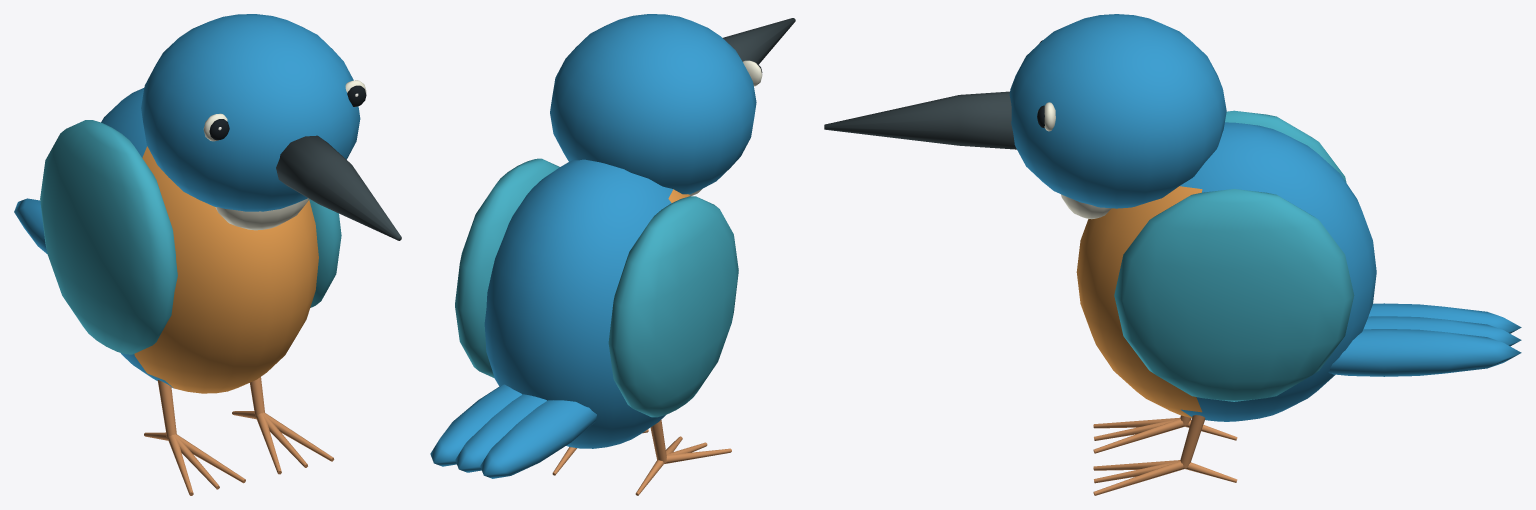
Rendered from bird_kingfisher.glb.
3 views of the same model, side by side, from view 1: azimuth 30°, elevation 25°; view 2: azimuth 150°, elevation 25°; view 3: azimuth 270°, elevation 25° (orthographic). The views are drawn at different scales.
Parts seen in each view (by area): view 1: Kingfisher_Large_Blue_Head, Kingfisher_Compact_Blue_Orange_Body, Kingfisher_Folded_Wing_-1, Kingfisher_Large_Pointing_Beak, Kingfisher_Folded_Wing_1, Kingfisher_White_Throat_Patch, Kingfisher_Short_Tail_Feather_0, Kingfisher_Leg_-1, Kingfisher_Foot_-1_Front_Toe_2, Kingfisher_Foot_1_Front_Toe_2, Kingfisher_Foot_1_Front_Toe_0, Kingfisher_Foot_-1_Front_Toe_0 (+2 smaller); view 2: Kingfisher_Compact_Blue_Orange_Body, Kingfisher_Large_Blue_Head, Kingfisher_Folded_Wing_-1, Kingfisher_Folded_Wing_1, Kingfisher_Short_Tail_Feather_0, Kingfisher_Short_Tail_Feather_2, Kingfisher_Short_Tail_Feather_1, Kingfisher_Large_Pointing_Beak, Kingfisher_Foot_-1_Front_Toe_0, Kingfisher_Leg_-1; view 3: Kingfisher_Folded_Wing_1, Kingfisher_Large_Blue_Head, Kingfisher_Compact_Blue_Orange_Body, Kingfisher_Short_Tail_Feather_2, Kingfisher_Large_Pointing_Beak, Kingfisher_Short_Tail_Feather_1, Kingfisher_Short_Tail_Feather_0, Kingfisher_Folded_Wing_-1.
Boxes of the visible parts, left/top/right/bottom form: Kingfisher_Large_Blue_Head: left=141, top=14, right=360, bottom=211; Kingfisher_Compact_Blue_Orange_Body: left=101, top=88, right=318, bottom=393; Kingfisher_Folded_Wing_-1: left=40, top=120, right=177, bottom=354; Kingfisher_Large_Pointing_Beak: left=276, top=135, right=401, bottom=240; Kingfisher_Folded_Wing_1: left=309, top=199, right=341, bottom=307; Kingfisher_White_Throat_Patch: left=215, top=198, right=309, bottom=230; Kingfisher_Short_Tail_Feather_0: left=14, top=198, right=47, bottom=253; Kingfisher_Leg_-1: left=157, top=380, right=176, bottom=439; Kingfisher_Foot_-1_Front_Toe_2: left=175, top=434, right=245, bottom=483; Kingfisher_Foot_1_Front_Toe_2: left=263, top=412, right=334, bottom=461; Kingfisher_Foot_1_Front_Toe_0: left=256, top=413, right=281, bottom=474; Kingfisher_Foot_-1_Front_Toe_0: left=168, top=435, right=193, bottom=495; Kingfisher_Compact_Blue_Orange_Body: left=484, top=159, right=689, bottom=448; Kingfisher_Large_Blue_Head: left=550, top=14, right=756, bottom=194; Kingfisher_Folded_Wing_-1: left=608, top=196, right=738, bottom=417; Kingfisher_Folded_Wing_1: left=455, top=158, right=559, bottom=378; Kingfisher_Short_Tail_Feather_0: left=480, top=400, right=596, bottom=478; Kingfisher_Short_Tail_Feather_2: left=430, top=384, right=522, bottom=466; Kingfisher_Short_Tail_Feather_1: left=455, top=394, right=546, bottom=472; Kingfisher_Large_Pointing_Beak: left=723, top=18, right=795, bottom=64; Kingfisher_Foot_-1_Front_Toe_0: left=664, top=448, right=731, bottom=463; Kingfisher_Leg_-1: left=650, top=419, right=666, bottom=462; Kingfisher_Folded_Wing_1: left=1114, top=189, right=1354, bottom=401; Kingfisher_Large_Blue_Head: left=1009, top=14, right=1226, bottom=208; Kingfisher_Compact_Blue_Orange_Body: left=1076, top=122, right=1376, bottom=421; Kingfisher_Short_Tail_Feather_2: left=1328, top=329, right=1521, bottom=376; Kingfisher_Large_Pointing_Beak: left=824, top=91, right=1016, bottom=149; Kingfisher_Short_Tail_Feather_1: left=1363, top=316, right=1521, bottom=346; Kingfisher_Short_Tail_Feather_0: left=1368, top=303, right=1521, bottom=333; Kingfisher_Folded_Wing_-1: left=1225, top=110, right=1346, bottom=182.
Size of the model in its own units: 0.104 by 0.1927 by 0.279.
